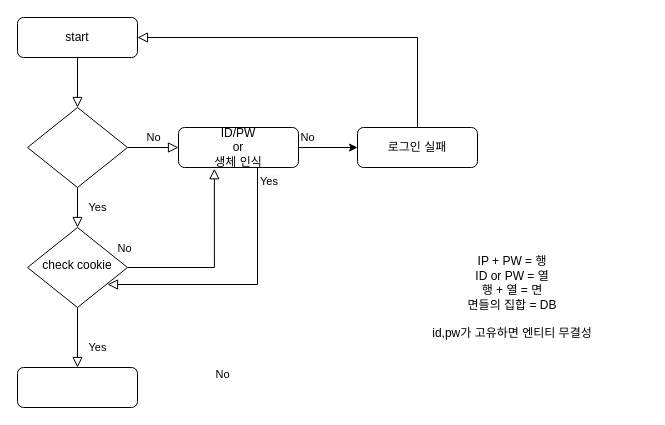
Some shapes in this 665 by 425 pixel diagram are drawn without their labels. The centre of each missing label's shape, as x and y in pixels:
auto login: [77,147]
end: [77,387]
